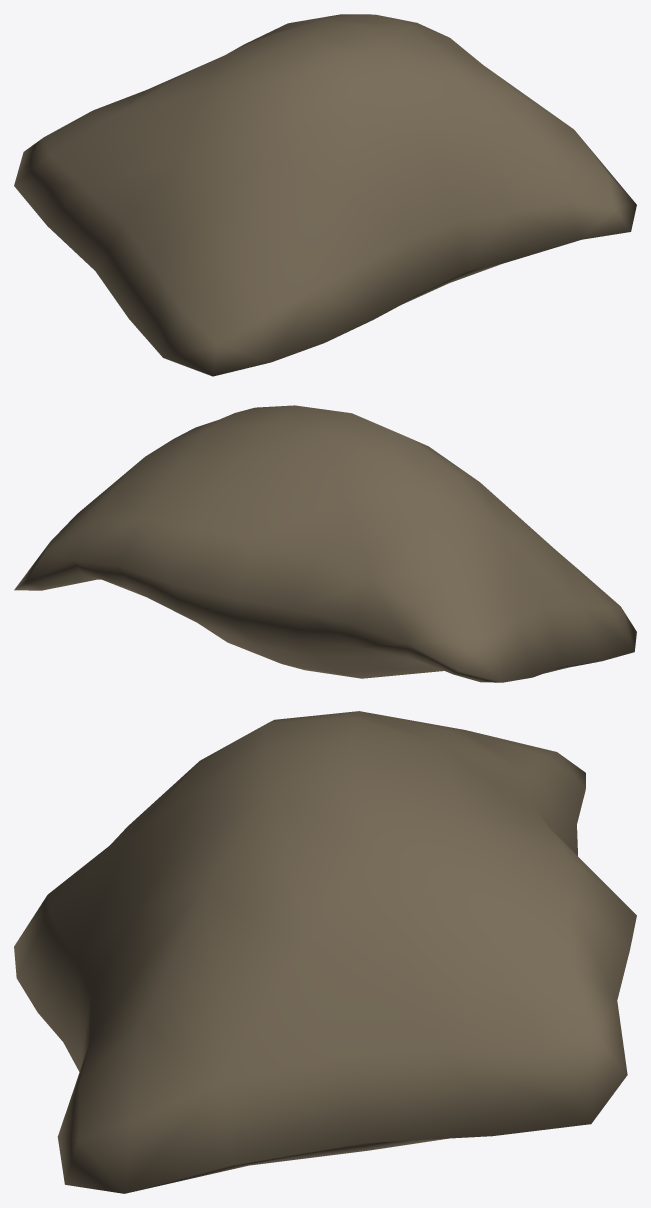
Rendered from shabao.FBX.
The picture shows the model from 3 angles, top to bottom: view 1: azimuth 30°, elevation 25°; view 2: azimuth 150°, elevation 25°; view 3: azimuth 270°, elevation 25°; orthographic projection. The views are drawn at different scales.
Parts seen in each view (by area): view 1: c12; view 2: c12; view 3: c12.
Boxes of the visible parts, x1,y1,x2,y2 form: c12: [14, 14, 636, 376]; c12: [14, 405, 636, 682]; c12: [14, 711, 636, 1193].
Bounding box in the file's own units: 0.5476 × 0.246 × 0.4018.
